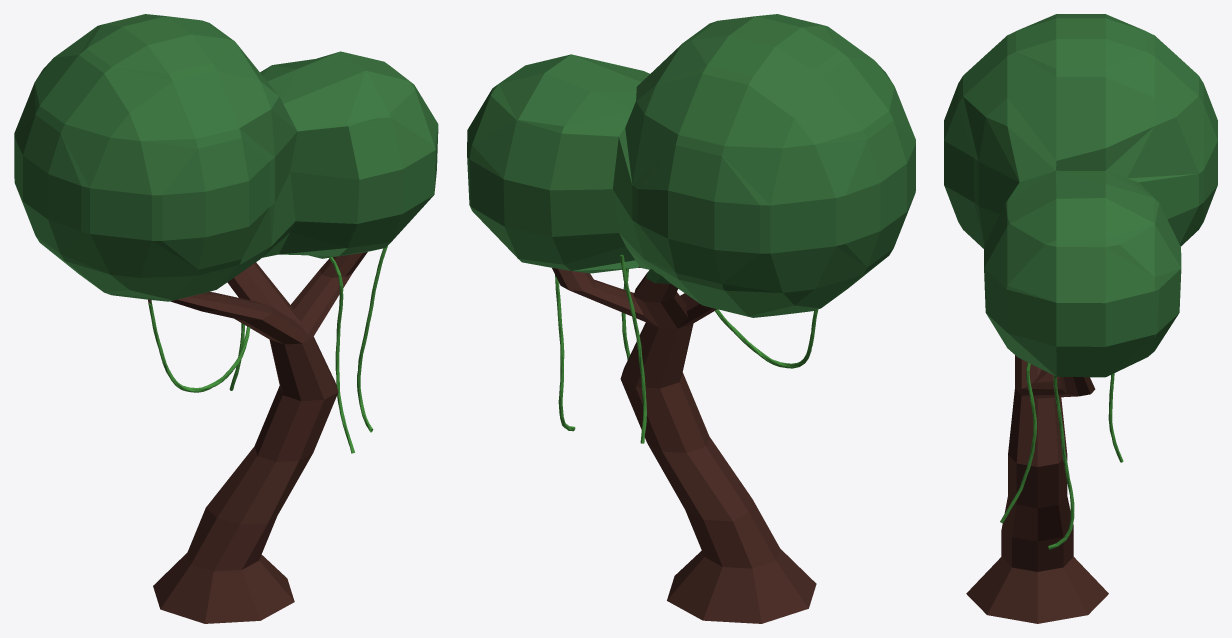
File: arvoreCipo.fbx
3 views of the same model, side by side, from view 1: azimuth 30°, elevation 25°; view 2: azimuth 150°, elevation 25°; view 3: azimuth 270°, elevation 25° (orthographic). The views are drawn at different scales.
Visible parts, largest first — view 1: arvoreComCipo; view 2: arvoreComCipo; view 3: arvoreComCipo.
Boxes of the visible parts, <box> form: arvoreComCipo: <box>14,14,438,623</box>; arvoreComCipo: <box>467,14,915,623</box>; arvoreComCipo: <box>944,14,1217,623</box>.
Bounding box in the file's own units: 4.6 × 6.28 × 2.86.
